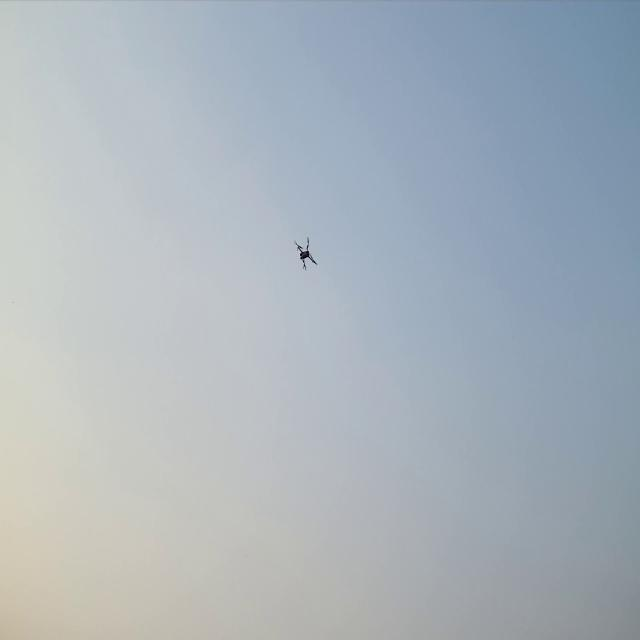UAV: (292, 236, 318, 272)
